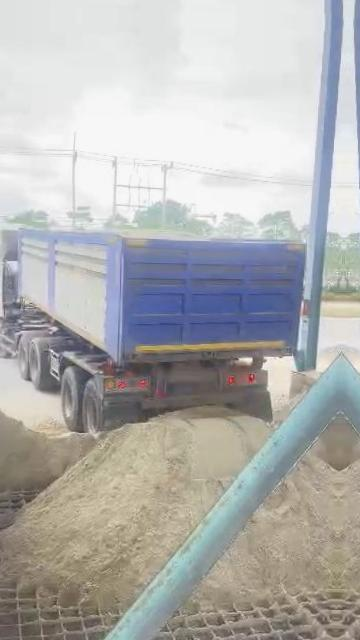sand: (0, 408, 270, 606), (197, 456, 340, 605), (0, 402, 95, 493), (312, 412, 341, 470), (114, 229, 208, 243), (274, 389, 307, 425)
